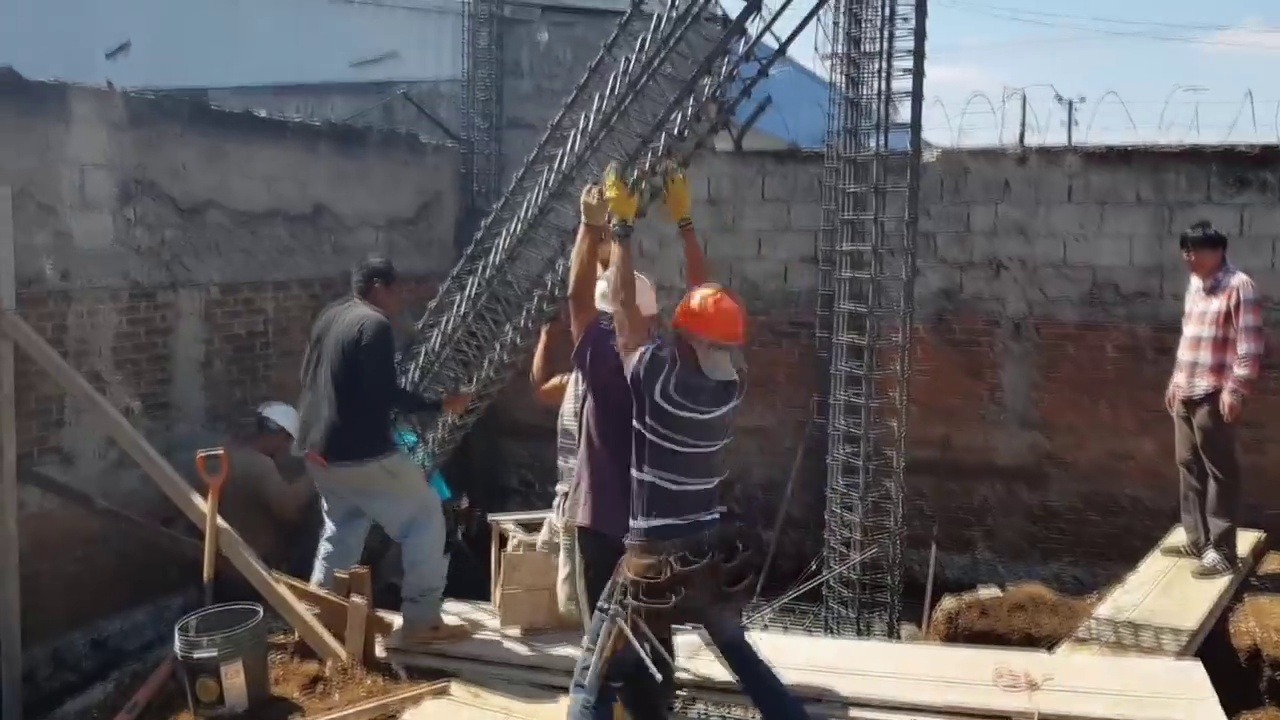helmet: (671, 289, 740, 364), (593, 265, 660, 320), (260, 401, 304, 445)
helmet-off: (353, 249, 432, 318), (1186, 226, 1235, 281)
helmet-on: (589, 265, 662, 352), (247, 407, 302, 470)
person: (566, 168, 807, 719), (306, 237, 462, 660), (561, 158, 660, 629), (1160, 221, 1259, 591), (202, 403, 313, 589)
